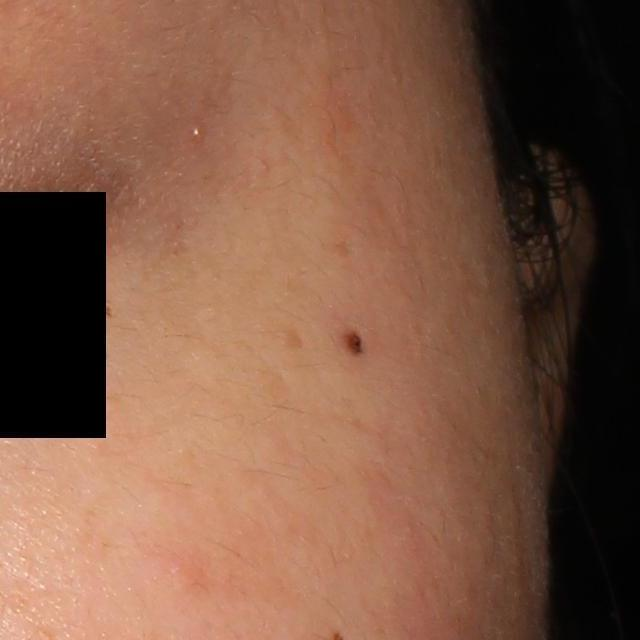nevus: (342, 327, 367, 357)
